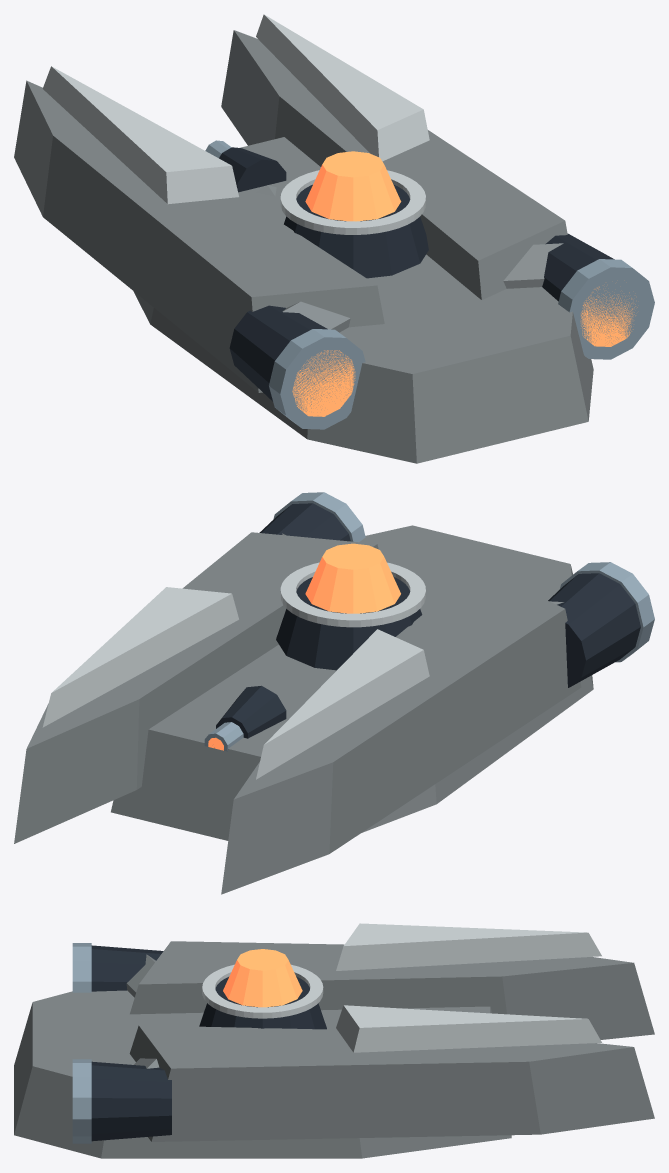
Rendered from kamikazeBoss.glb.
3 renders of one model, top to bottom at view 1: azimuth 30°, elevation 25°; view 2: azimuth 150°, elevation 25°; view 3: azimuth 270°, elevation 25°, orthographic. The views are drawn at different scales.
Parts seen in each view (by area): view 1: kamikazeBoss / Armor, kamikazeBoss / Identification, kamikazeBoss / Chassis, kamikazeBoss / Titanium, kamikazeBoss / Energy; view 2: kamikazeBoss / Armor, kamikazeBoss / Identification, kamikazeBoss / Chassis, kamikazeBoss / Energy, kamikazeBoss / Titanium; view 3: kamikazeBoss / Armor, kamikazeBoss / Identification, kamikazeBoss / Chassis, kamikazeBoss / Energy, kamikazeBoss / Titanium.
Part boxes in pixels (x1,y1,x2,y2): kamikazeBoss / Armor: [14, 30, 593, 463]; kamikazeBoss / Identification: [42, 14, 429, 234]; kamikazeBoss / Chassis: [219, 147, 614, 401]; kamikazeBoss / Titanium: [205, 140, 654, 429]; kamikazeBoss / Energy: [292, 151, 637, 416]; kamikazeBoss / Armor: [14, 525, 593, 894]; kamikazeBoss / Identification: [42, 562, 429, 779]; kamikazeBoss / Chassis: [216, 503, 640, 738]; kamikazeBoss / Energy: [208, 543, 400, 750]; kamikazeBoss / Titanium: [204, 492, 654, 751]; kamikazeBoss / Armor: [14, 941, 654, 1158]; kamikazeBoss / Identification: [202, 923, 601, 1052]; kamikazeBoss / Chassis: [91, 945, 326, 1141]; kamikazeBoss / Energy: [223, 949, 302, 1007]; kamikazeBoss / Titanium: [72, 943, 91, 1143].
Bounding box in the file's own units: 1.23 × 0.53 × 2.19.
